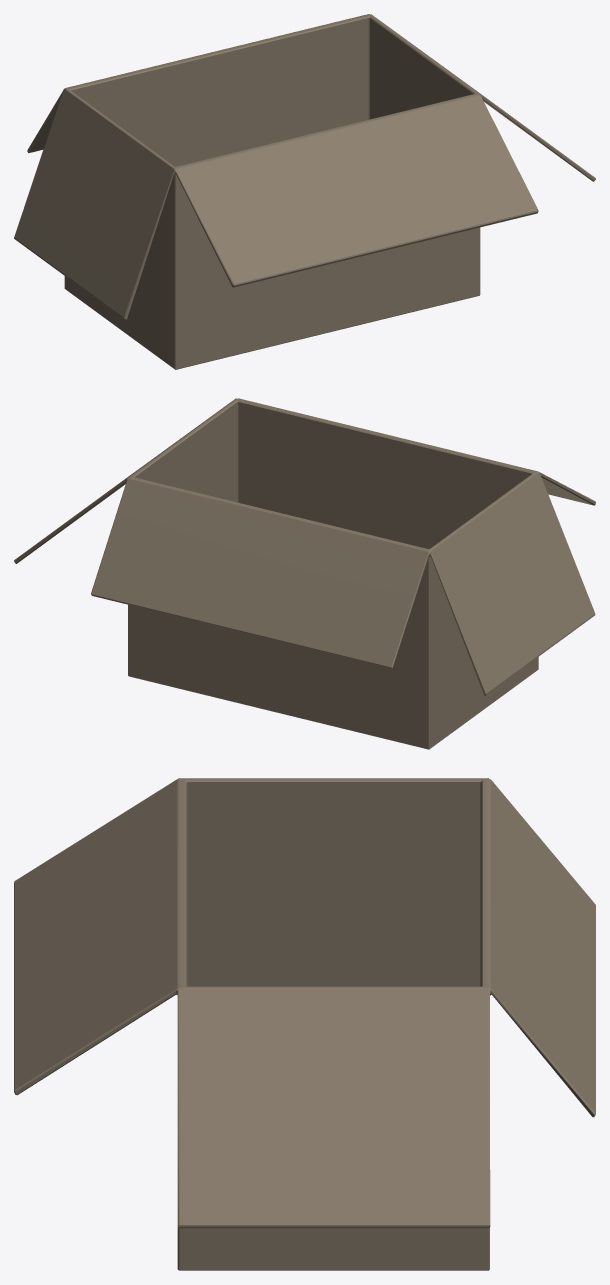
Rendered from A3B_Openbox.fbx.
3 renders of one model, top to bottom at view 1: azimuth 30°, elevation 25°; view 2: azimuth 150°, elevation 25°; view 3: azimuth 270°, elevation 25°, orthographic. The views are drawn at different scales.
Visible parts, largest first — view 1: pCube2; view 2: pCube2; view 3: pCube2.
Part boxes in pixels (x1,y1,x2,y2): pCube2: [14, 14, 595, 369]; pCube2: [14, 398, 595, 749]; pCube2: [14, 778, 595, 1270].
Size of the model in its own units: 2.47 by 1 by 1.86.
